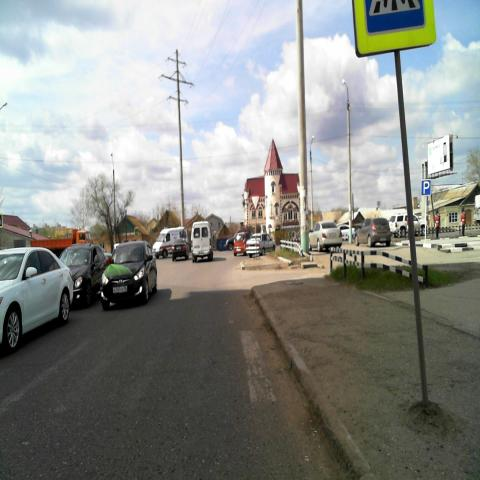2_4: (252, 195, 260, 211)
6_4: (422, 180, 430, 196)
